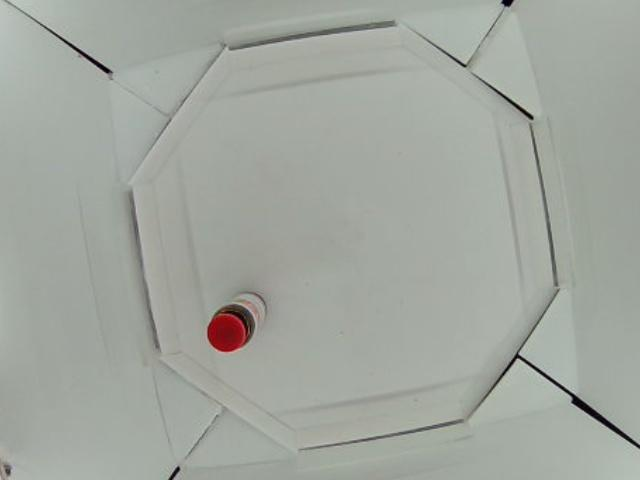Medicine: (208, 295, 267, 352)
